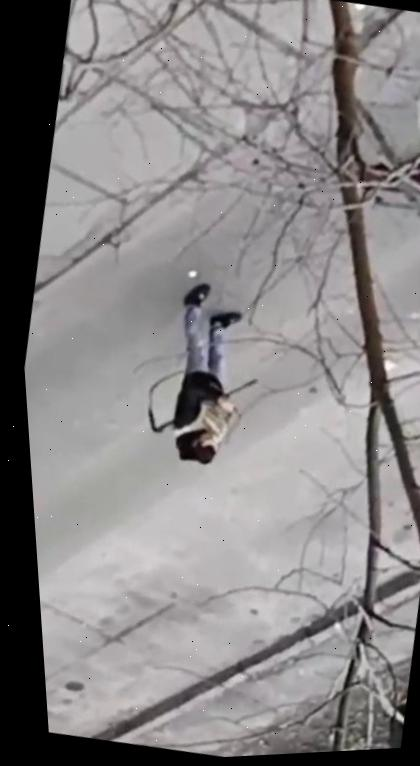person: (124, 269, 283, 479)
